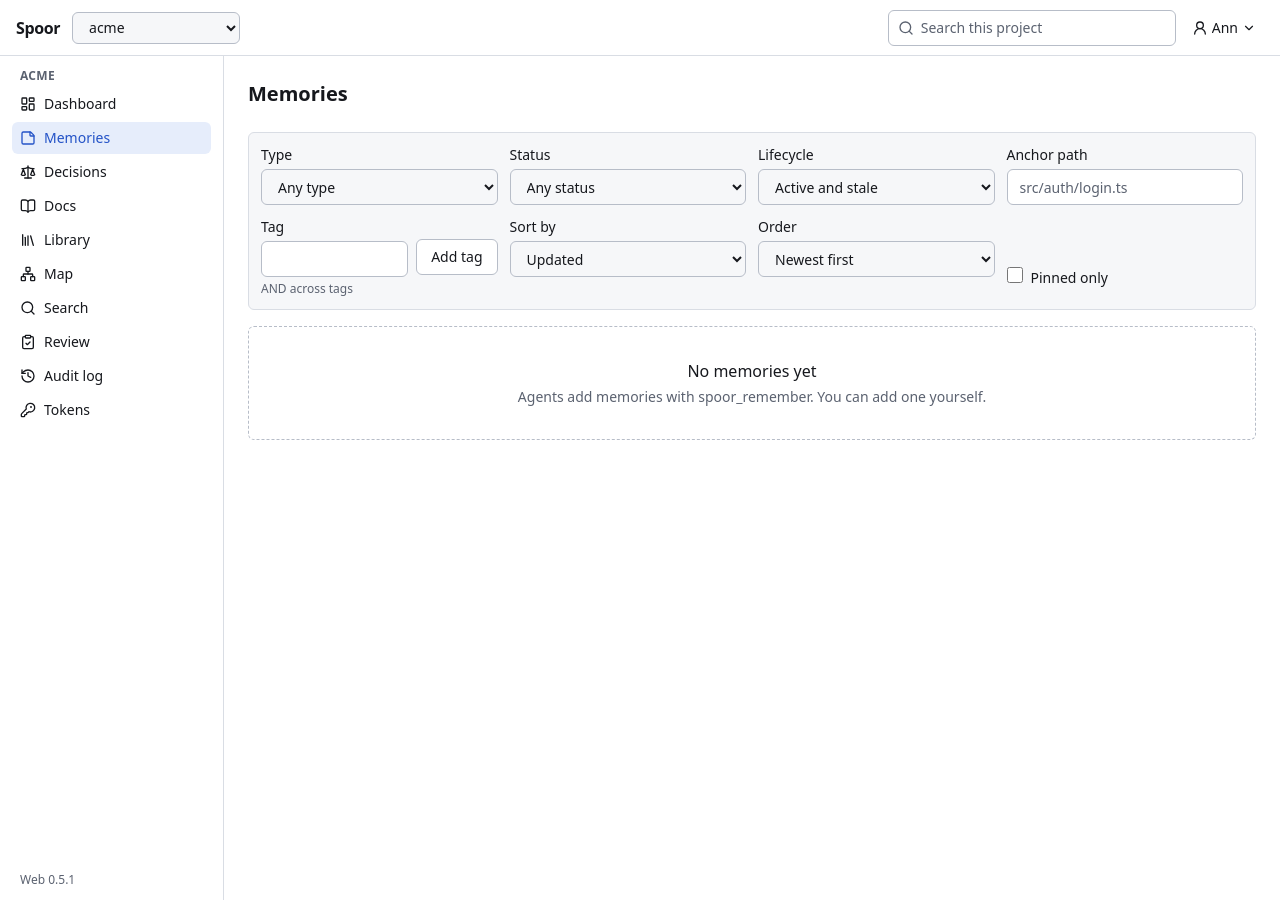
Test: SpaceListPage › keeps a filter change made before the previous one reached the URL
expect the text "No memories yet" is shown: met, box [687, 360, 817, 382]
# both in one task: the second change happens while the first URL update is still a pending navigation
Type "auth" into the field labelled "Tag" at (335, 259), box [261, 241, 408, 277]
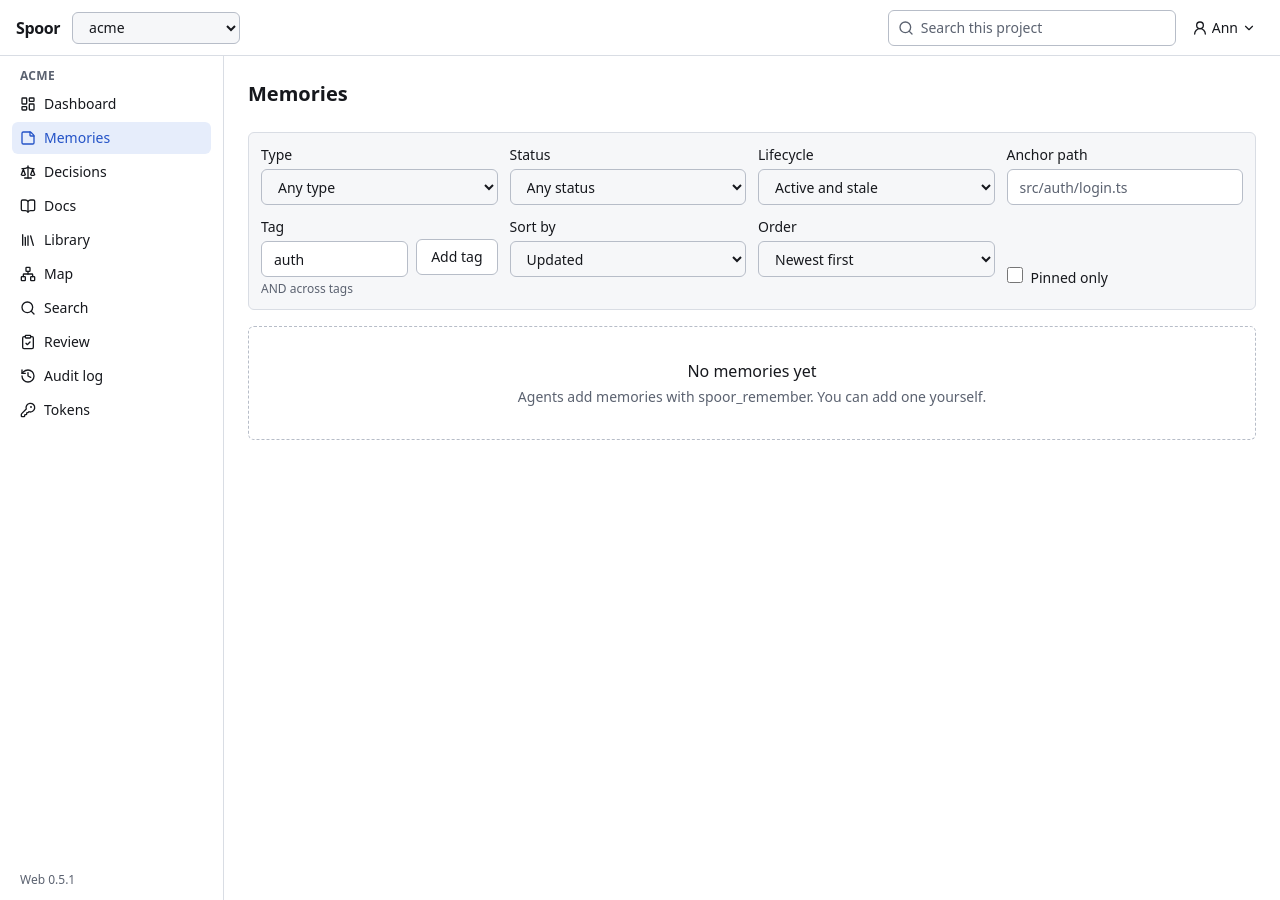
Submit the form "Tag AND across tags Add tag", box [261, 217, 498, 297]
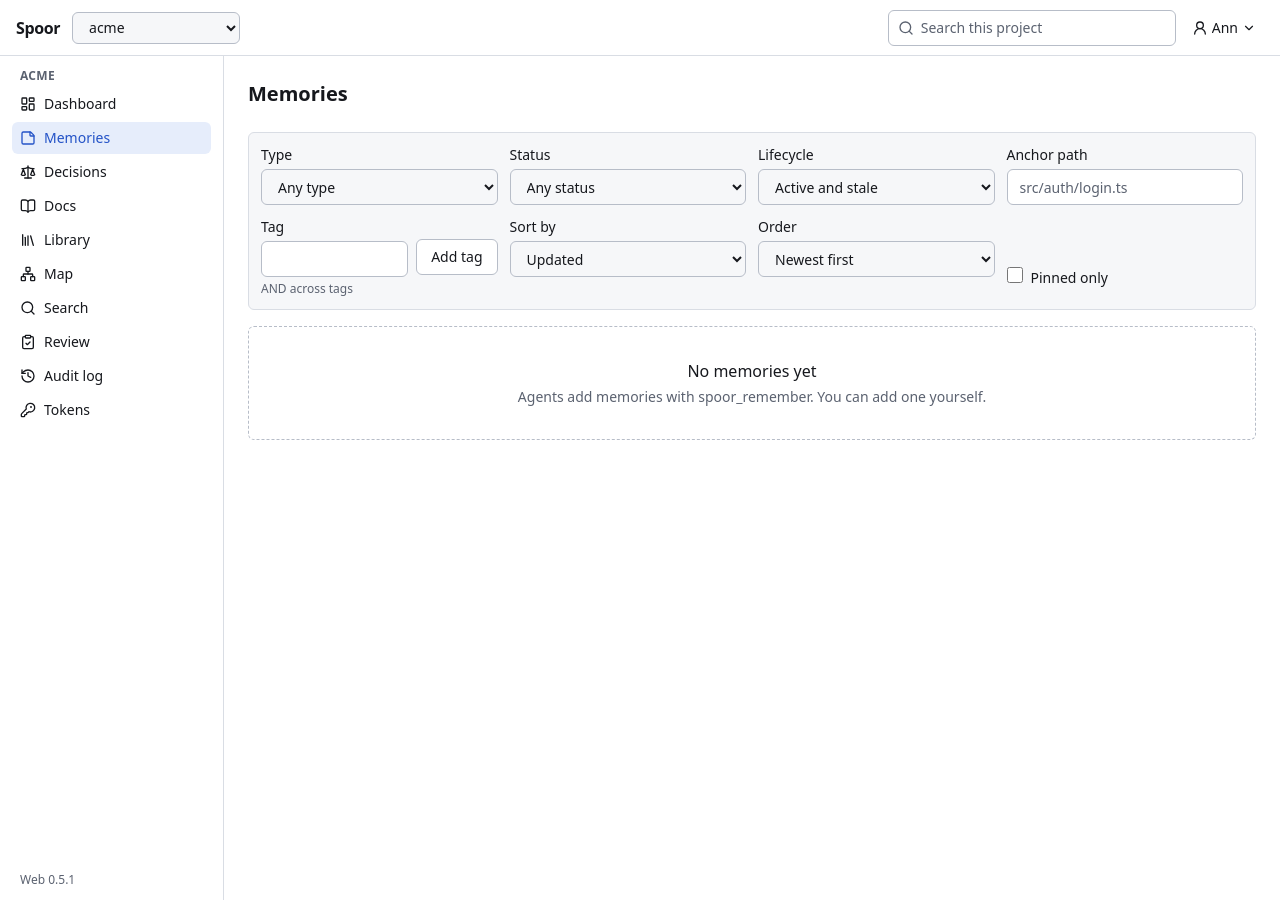
Click the checkbox labelled "Pinned only" at (1014, 275), box [1006, 267, 1022, 283]
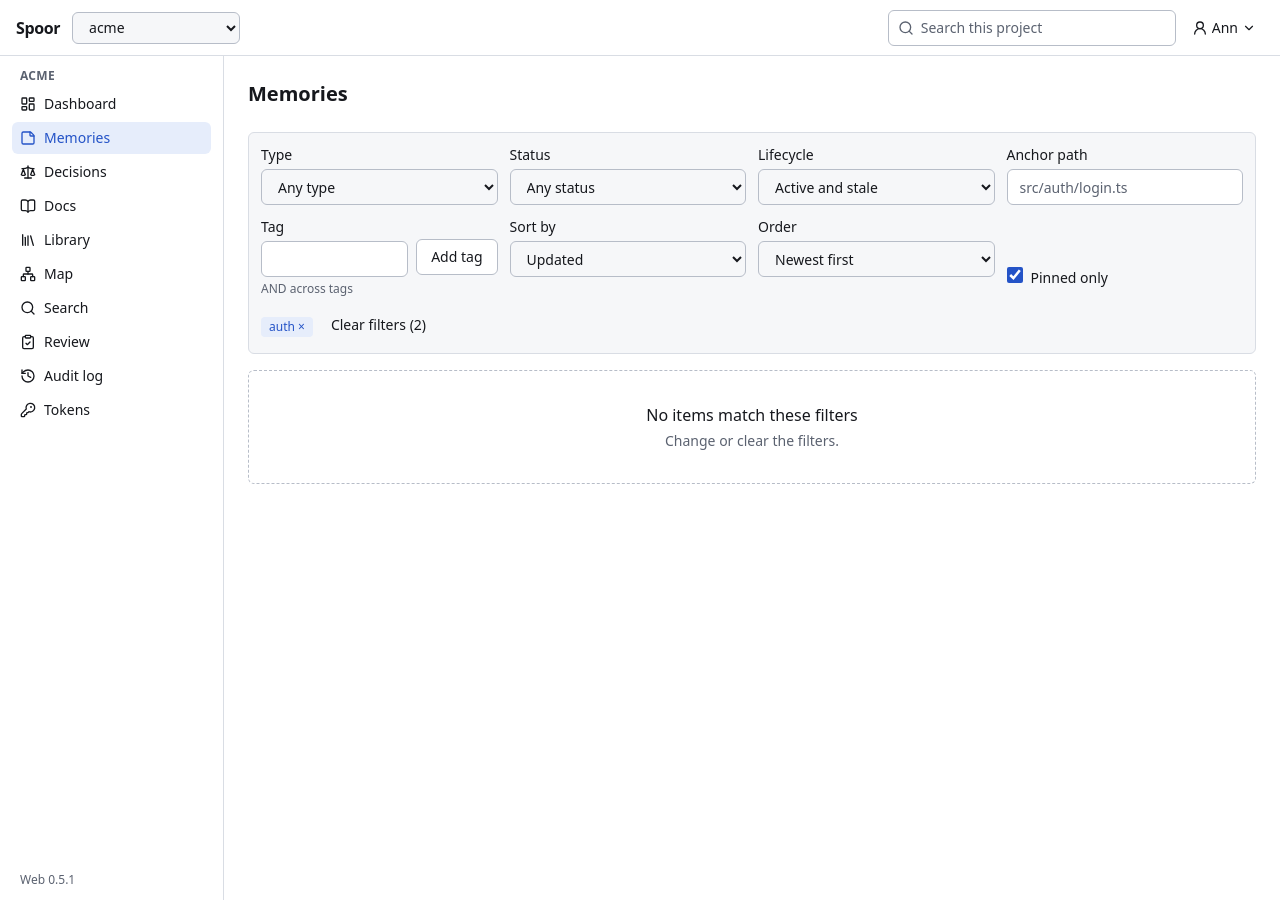
expect the text "No items match these filters" is shown: met, box [646, 404, 858, 426]
